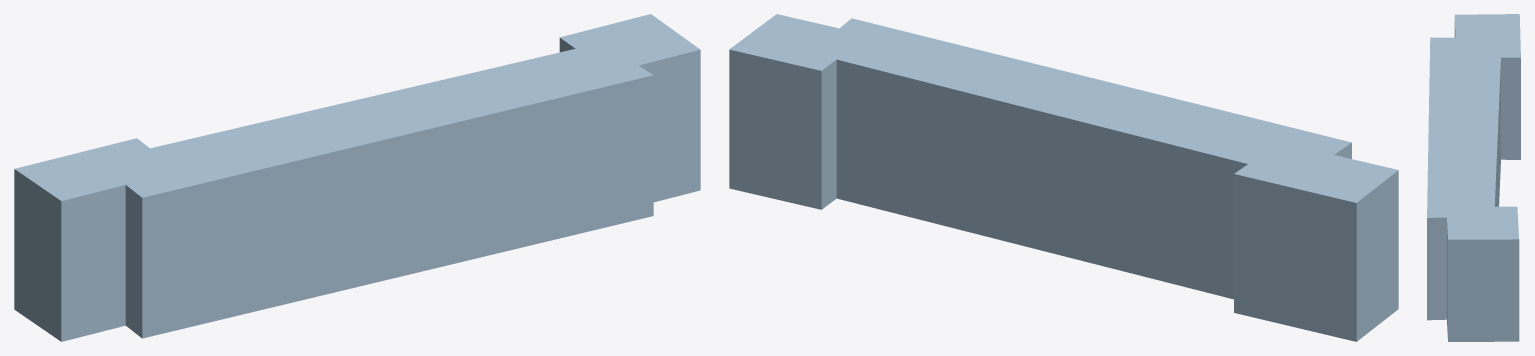
The model's file is osm_way_223859829.glb.
3 renders of one model, left to right at view 1: azimuth 30°, elevation 25°; view 2: azimuth 150°, elevation 25°; view 3: azimuth 270°, elevation 25°, orthographic. The views are drawn at different scales.
Visible parts, largest first — view 1: osm_way_223859829; view 2: osm_way_223859829; view 3: osm_way_223859829.
Boxes of the visible parts, box(x1,y1,x2,y2) form: osm_way_223859829: box(14, 14, 700, 341); osm_way_223859829: box(729, 14, 1398, 341); osm_way_223859829: box(1427, 14, 1520, 341).
Bounding box in the file's own units: 90.88 × 19.2 × 15.99.
